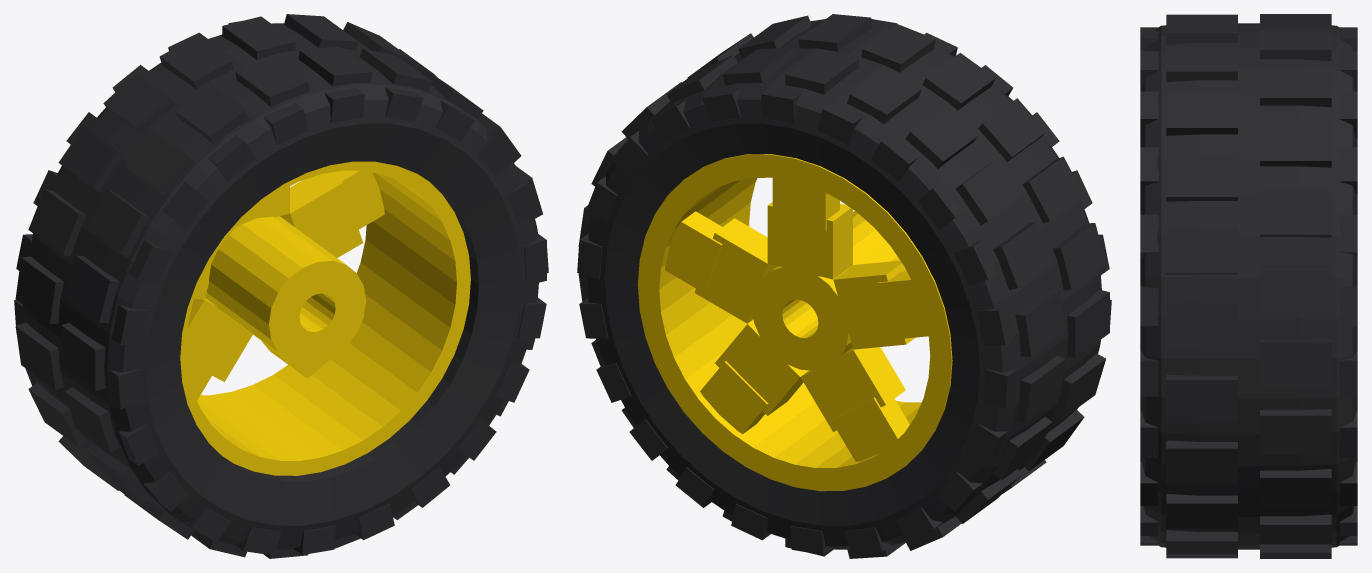
Rendered from wheel.glb.
3 views of the same model, side by side, from view 1: azimuth 30°, elevation 25°; view 2: azimuth 150°, elevation 25°; view 3: azimuth 270°, elevation 25° (orthographic). The views are drawn at different scales.
Parts seen in each view (by area): view 1: wheel_tyre, wheel_tyre_rim; view 2: wheel_tyre, wheel_tyre_rim; view 3: wheel_tyre.
Part boxes in pixels (box(x1,y1,x2,y2)): wheel_tyre: box(14, 14, 548, 558); wheel_tyre_rim: box(180, 161, 470, 475); wheel_tyre: box(577, 14, 1111, 558); wheel_tyre_rim: box(637, 154, 952, 491); wheel_tyre: box(1140, 14, 1357, 558).
Size of the model in its own units: 0.0651 by 0.0651 by 0.026.
